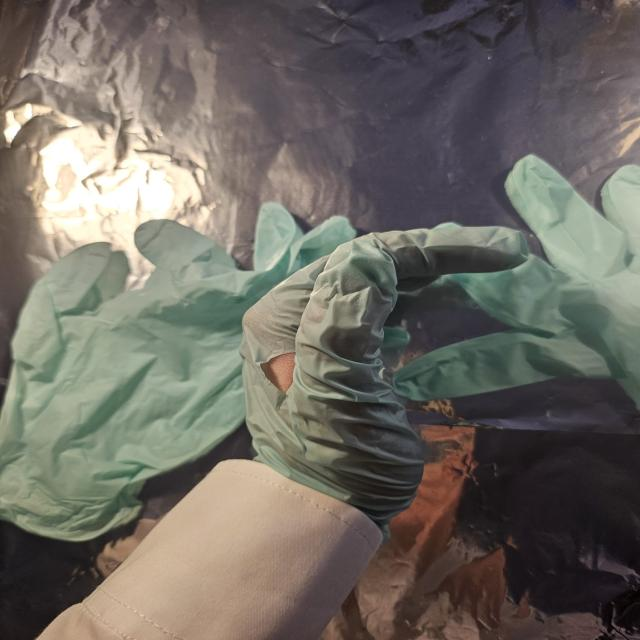gloves_damaged: (238, 224, 536, 545)
